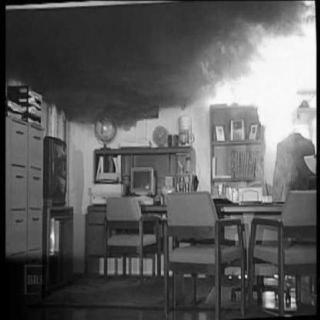Smoke: (48, 12, 200, 118)
